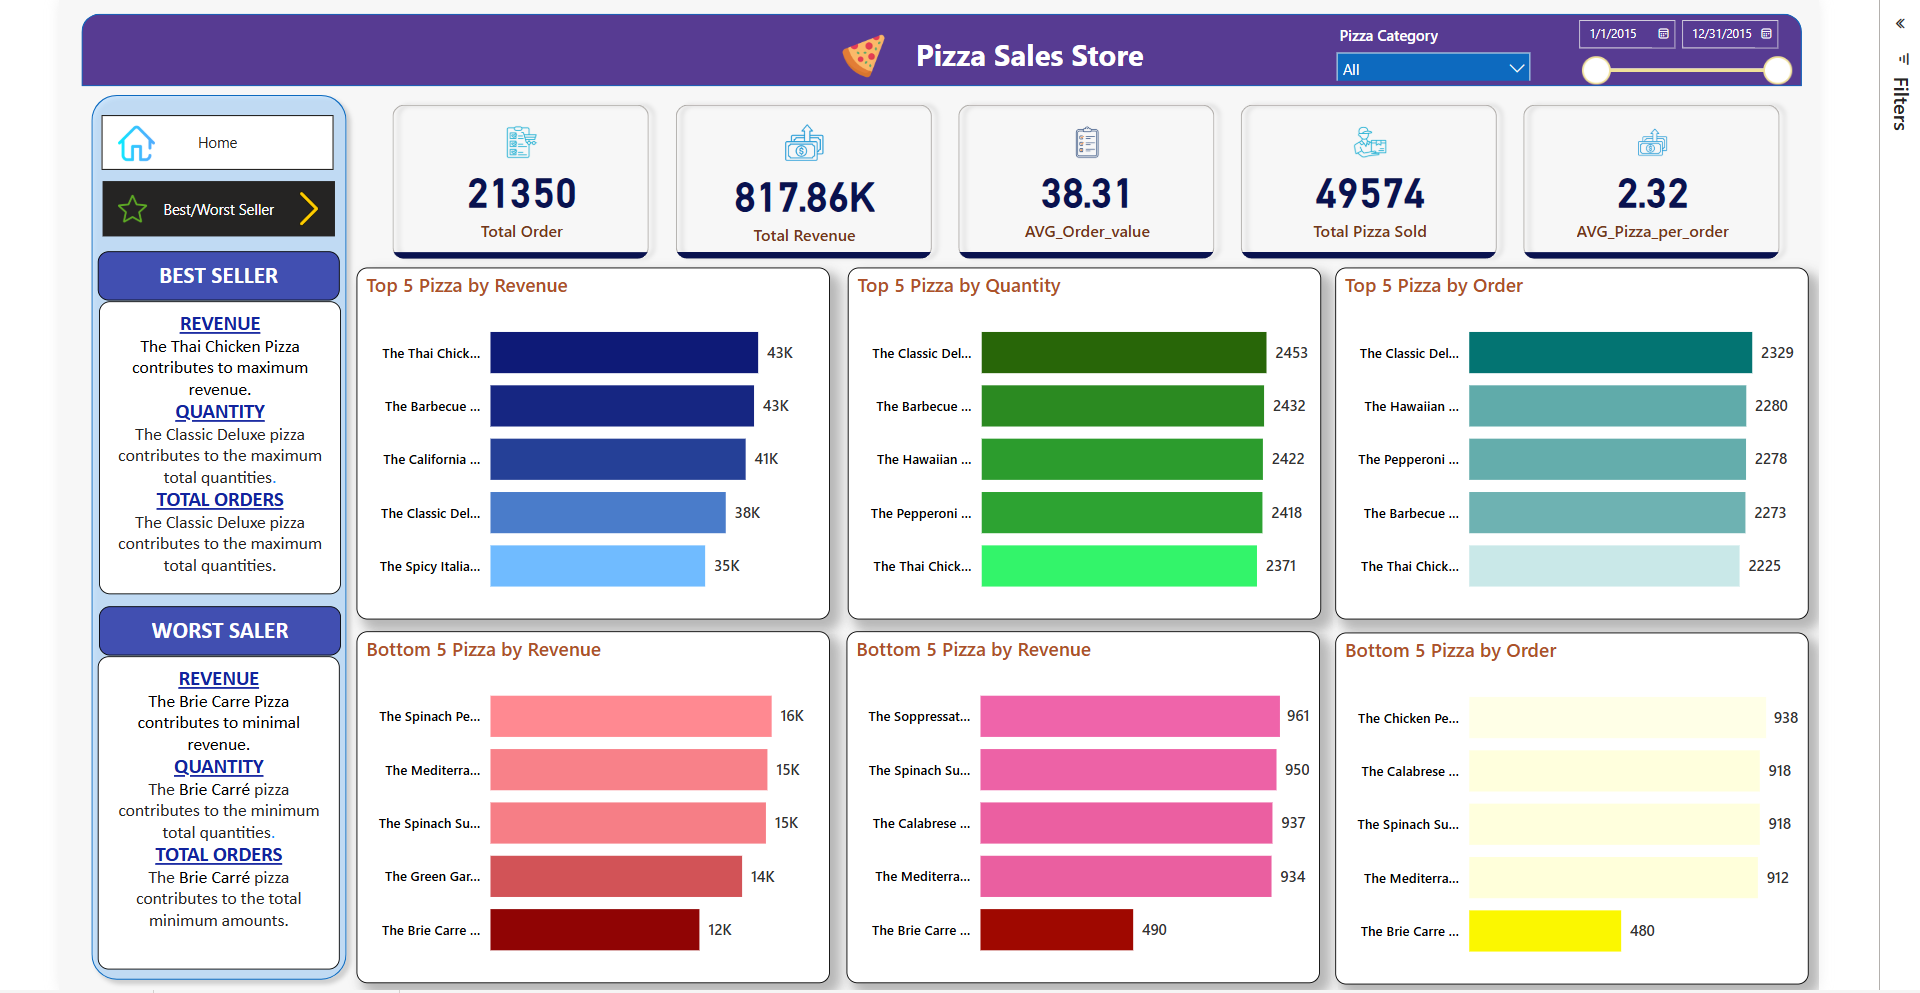

What the dashboard file says about the page in this screenshot:
{"tool":"powerbi","page":{"name":"Best/Worst Seller","canvas":[1600,900],"ordinal":1},"visuals":[{"type":"cardVisual","fields":{"Data":["pizza_sales.Total Order","pizza_sales.Total Revenue","pizza_sales.AVG_Order_value","pizza_sales.Total Pizza Sold","pizza_sales.AVG_Pizza_per_order"]},"box":[286,78,1298,174],"z":0},{"type":"shape","box":[20,12,1564,66],"z":1000},{"type":"textbox","box":[773.3,26.7,230,46.7],"z":2000},{"type":"shape","box":[20,77.8,250,822.2],"z":3000},{"type":"textbox","box":[35.6,243.3,220,45.6],"z":4000},{"type":"textbox","box":[35.6,288.9,220,266.7],"z":5000},{"type":"textbox","box":[35.6,608.9,220,274.4],"z":6000},{"type":"textbox","box":[35.6,563.3,220,45.6],"z":7000},{"type":"slicer","fields":{"Values":["pizza_sales.pizza_category"]},"box":[1151.1,17.8,196.7,55.6],"z":8000},{"type":"slicer","fields":{"Values":["pizza_sales.order_date"]},"box":[1368.9,7.8,214.4,81.1],"z":9000},{"type":"barChart","title":"Top 5 Pizza by Revenue","fields":{"Y":["pizza_sales.Total Revenue"],"Category":["pizza_sales.pizza_name"]},"box":[270,243.3,430,320],"z":10000},{"type":"barChart","title":"Bottom 5 Pizza by Revenue","fields":{"Y":["pizza_sales.Total Revenue"],"Category":["pizza_sales.pizza_name"]},"box":[270,573.8,430,320],"z":11000},{"type":"barChart","title":"Top 5 Pizza by Quantity","fields":{"Category":["pizza_sales.pizza_name"],"Y":["pizza_sales.Total Pizza Sold"]},"box":[716.7,243.3,430,320],"z":12000},{"type":"barChart","title":"Bottom 5 Pizza by Revenue","fields":{"Category":["pizza_sales.pizza_name"],"Y":["pizza_sales.Total Pizza Sold"]},"box":[716.2,573.8,430,320],"z":13000},{"type":"barChart","title":"Top 5 Pizza by Order","fields":{"Category":["pizza_sales.pizza_name"],"Y":["pizza_sales.Total Order"]},"box":[1160,243.3,430,320],"z":14000},{"type":"barChart","title":"Bottom 5 Pizza by Order","fields":{"Category":["pizza_sales.pizza_name"],"Y":["pizza_sales.Total Order"]},"box":[1160,575,430,320],"z":15000},{"type":"pageNavigator","box":[40,115.6,211.1,50],"z":16000},{"type":"pageNavigator","box":[40,184.4,211.1,50],"z":17000},{"type":"image","box":[703.3,25.7,56.6,49.7],"z":18000},{"type":"image","box":[204.1,188.7,46.3,41.2],"z":19000},{"type":"image","box":[48.9,118.9,38.9,44.4],"z":19001},{"type":"image","box":[48.9,185.6,35.6,41.1],"z":19002}]}

Visuals, with their boxes in screenshot pixels (x1, y1, x2, y2):
cardVisual - pizza_sales.Total Order x pizza_sales.Total Revenue: bbox=(372, 80, 1787, 270)
shape: bbox=(82, 8, 1787, 80)
textbox: bbox=(903, 24, 1154, 75)
shape: bbox=(82, 80, 354, 976)
textbox: bbox=(99, 260, 339, 310)
textbox: bbox=(99, 310, 339, 601)
textbox: bbox=(99, 659, 339, 958)
textbox: bbox=(99, 609, 339, 659)
slicer - pizza_sales.pizza_category: bbox=(1315, 14, 1529, 75)
slicer - pizza_sales.order_date: bbox=(1552, 4, 1786, 92)
"Top 5 Pizza by Revenue" barChart: bbox=(354, 260, 823, 609)
"Bottom 5 Pizza by Revenue" barChart: bbox=(354, 621, 823, 969)
"Top 5 Pizza by Quantity" barChart: bbox=(841, 260, 1310, 609)
"Bottom 5 Pizza by Revenue" barChart: bbox=(841, 621, 1310, 969)
"Top 5 Pizza by Order" barChart: bbox=(1325, 260, 1794, 609)
"Bottom 5 Pizza by Order" barChart: bbox=(1325, 622, 1794, 971)
pageNavigator: bbox=(104, 121, 334, 176)
pageNavigator: bbox=(104, 196, 334, 251)
image: bbox=(827, 23, 888, 77)
image: bbox=(283, 201, 333, 246)
image: bbox=(113, 125, 156, 173)
image: bbox=(113, 197, 152, 242)
